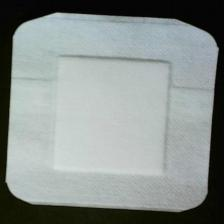Dressing: (5, 13, 223, 215)
